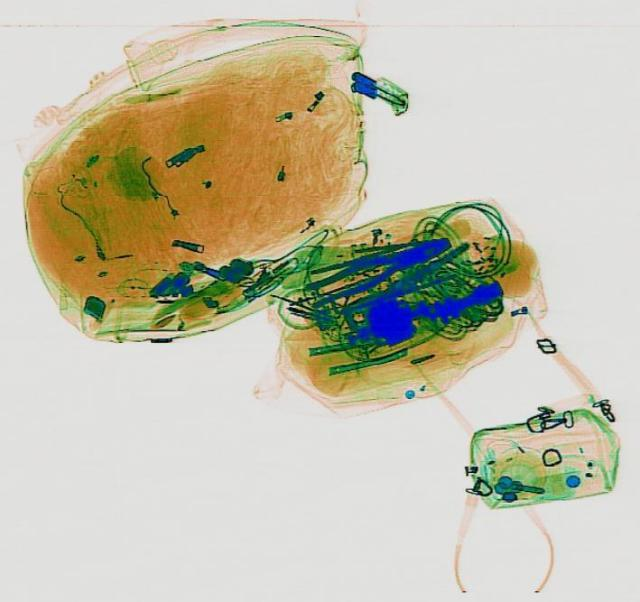Pliers: (298, 227, 454, 307)
